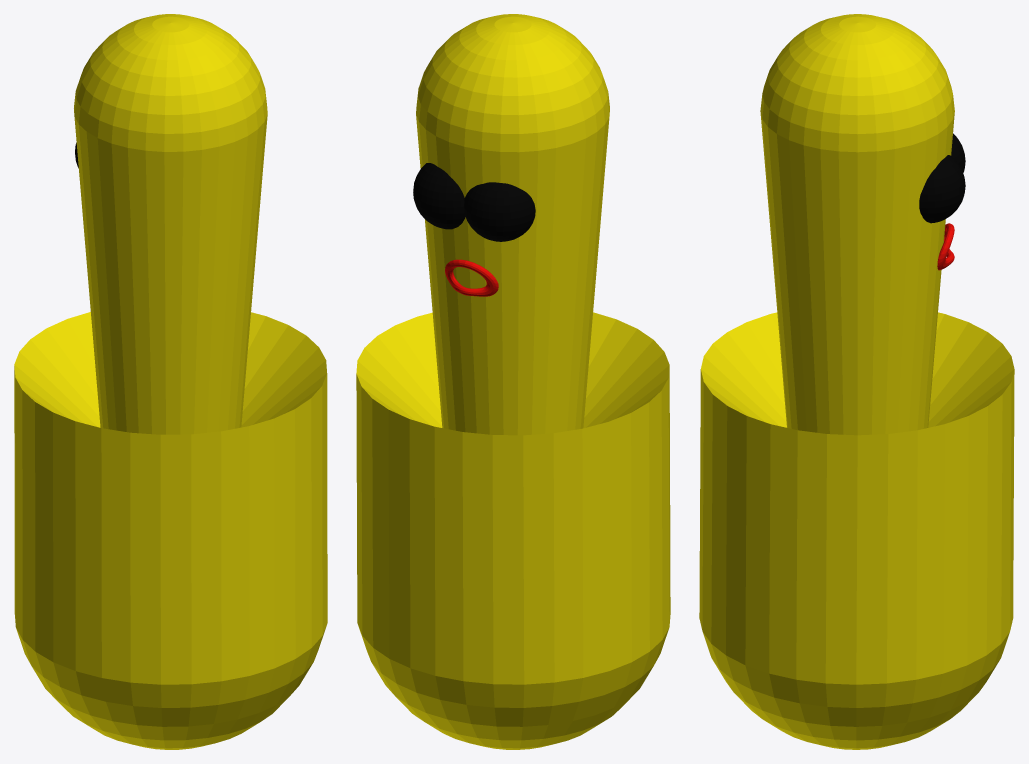
File: enemy9.fbx
The picture shows the model from 3 angles, left to right: view 1: azimuth 30°, elevation 25°; view 2: azimuth 150°, elevation 25°; view 3: azimuth 270°, elevation 25°; orthographic projection.
Parts seen in each view (by area): view 1: Sphere; view 2: Sphere; view 3: Sphere.
Boxes of the visible parts, x1,y1,x2,y2 form: Sphere: [14, 14, 327, 749]; Sphere: [356, 14, 670, 749]; Sphere: [699, 14, 1014, 749].
Size of the model in its own units: 196 by 491 by 197.
